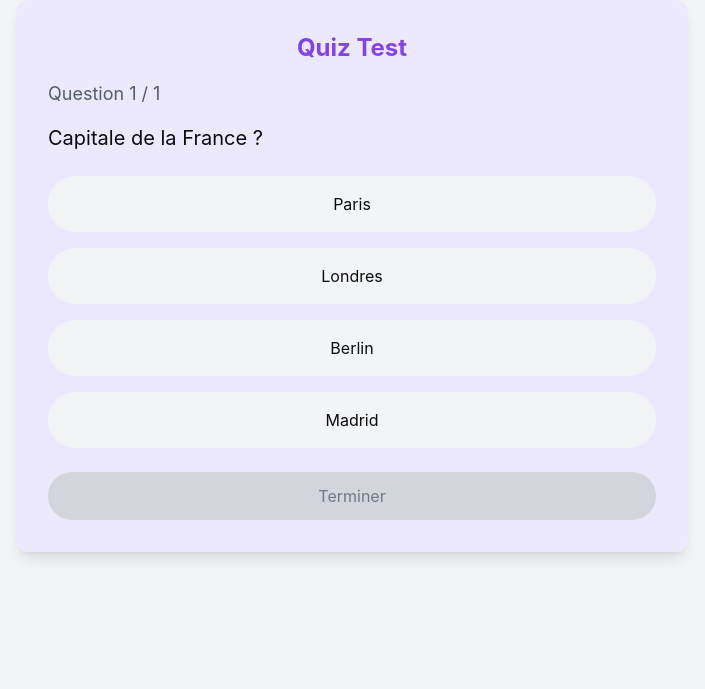
it: <Quiz /> › Résultats du quiz › affiche le score pour une bonne réponse
Expected: the heading "Quiz Test" is shown, x1=297 y1=33 x2=407 y2=62
Répondre correctement
Click the button "Paris" at (352, 204), box x1=48 y1=176 x2=656 y2=232
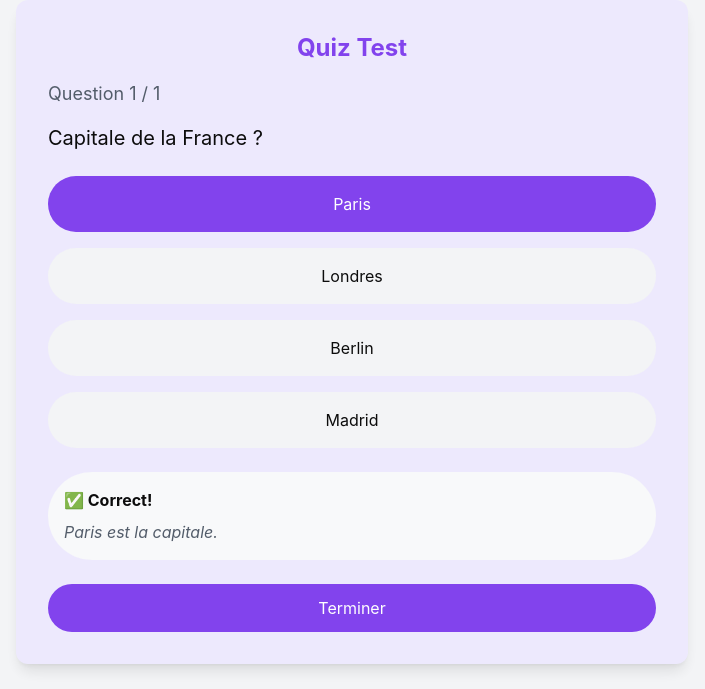
Click the button "Terminer" at (352, 608), box x1=48 y1=584 x2=656 y2=632
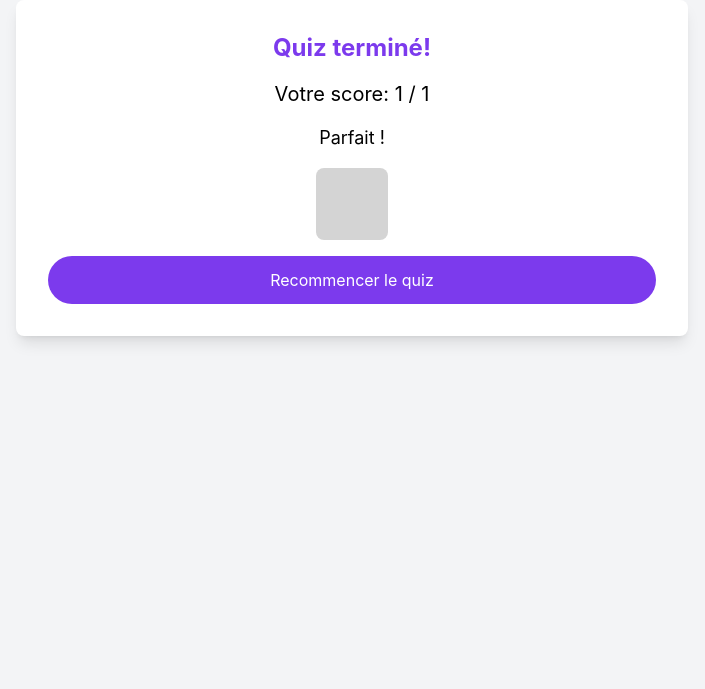
Result: the heading "Quiz terminé!" is shown at x1=273 y1=33 x2=431 y2=62
Result: the text "Votre score: 1 / 1" is shown at x1=275 y1=82 x2=429 y2=106
Result: the text "Parfait !" is shown at x1=319 y1=127 x2=385 y2=148
